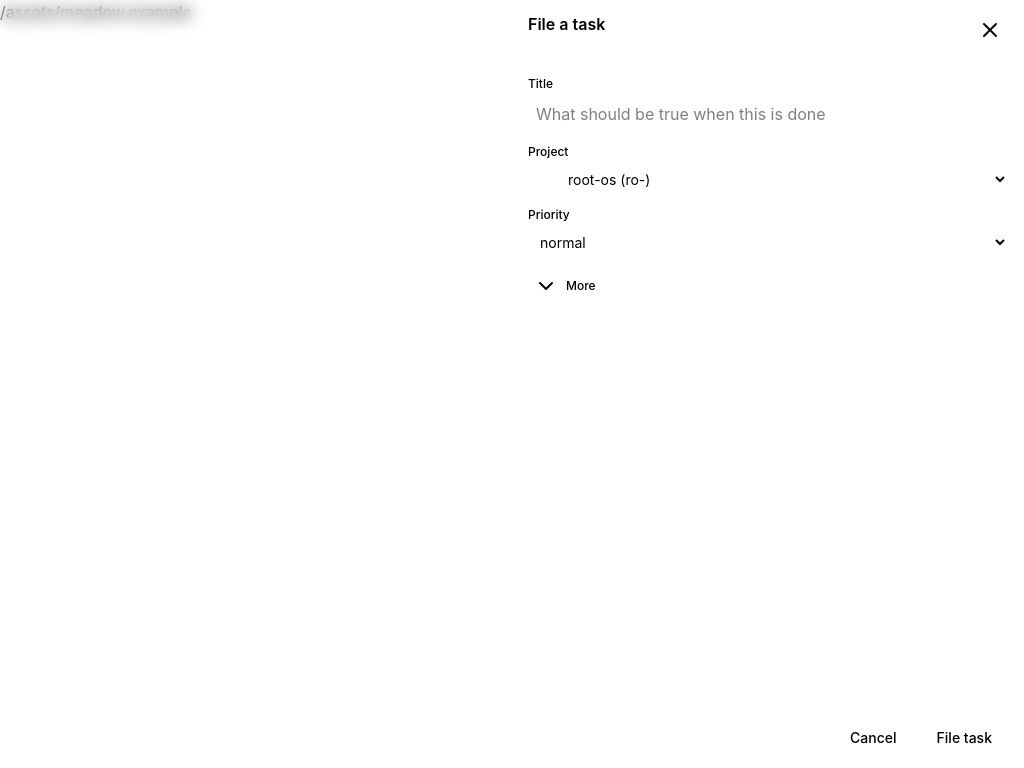
Scenario: TaskComposer › opens a new task on title, project and priority, with the rest under More
Expected: the dropdown labelled "Project" shows "root-os (ro-)", [556,164,1008,195]
Expected: the field labelled "Type" is not shown
Step 1. Click the button "More" → point(565, 286), box [528,270,602,302]
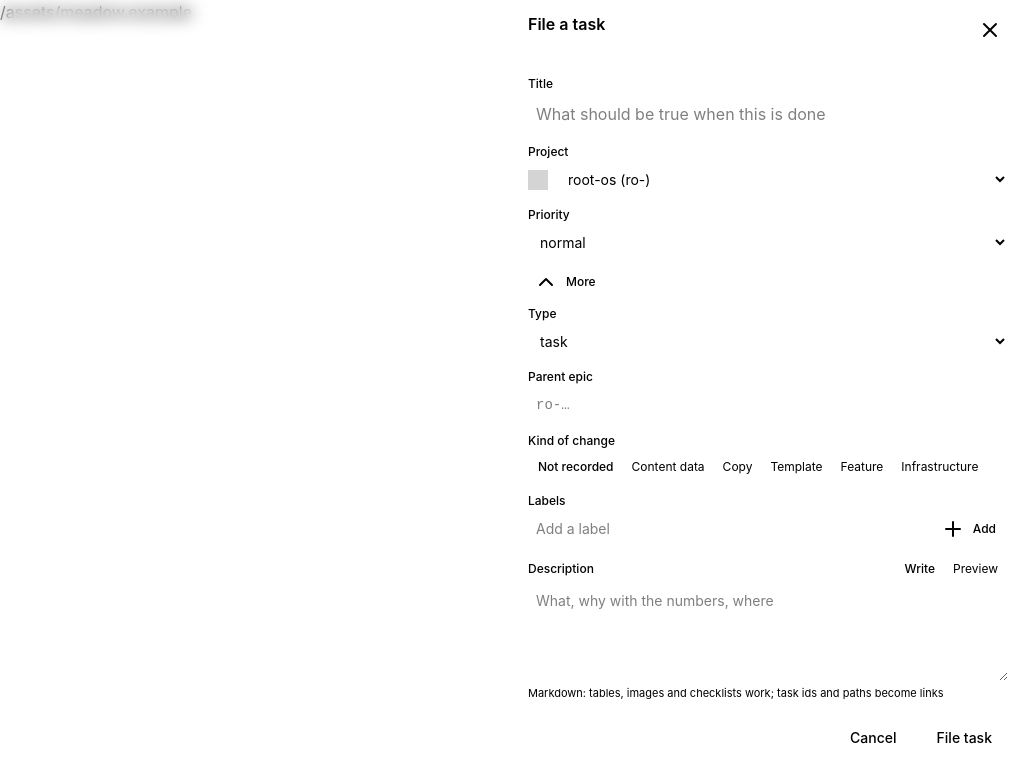
Expected: the dropdown labelled "Type" shows "task", [528,326,1008,357]
